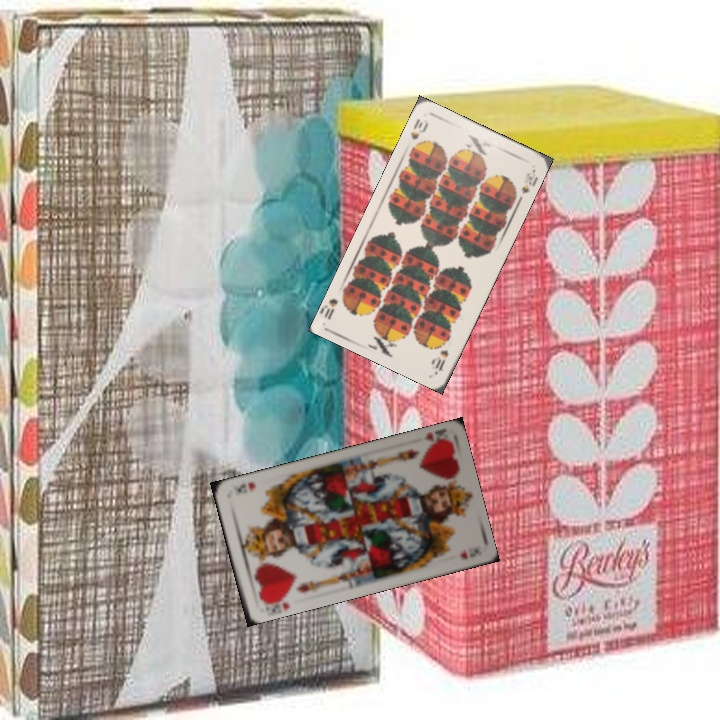HK: (259, 591, 292, 612), (420, 425, 449, 444)
S10: (406, 114, 431, 153), (429, 346, 451, 374)
